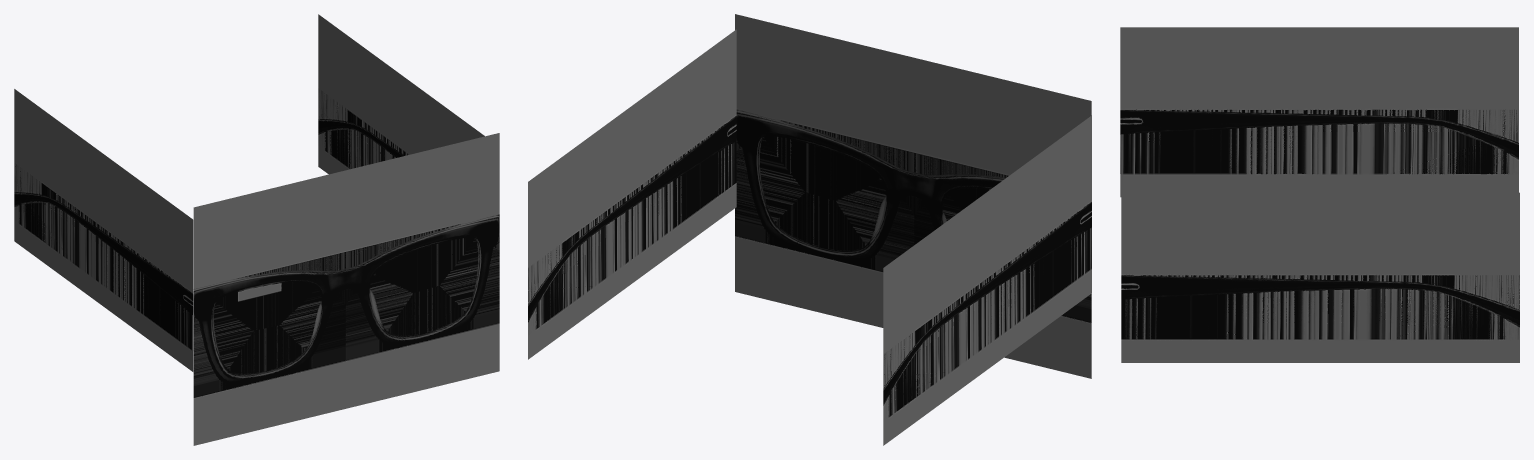
Rendered from broadway-flex-26_black.glb.
3 renders of one model, left to right at view 1: azimuth 30°, elevation 25°; view 2: azimuth 150°, elevation 25°; view 3: azimuth 270°, elevation 25°, orthographic. The views are drawn at different scales.
Parts seen in each view (by area): view 1: Front, Right, Left; view 2: Front, Left, Right; view 3: Left, Right.
Boxes of the visible parts, x1,y1,x2,y2 form: Front: [193, 133, 499, 445]; Right: [14, 89, 193, 371]; Left: [318, 14, 484, 174]; Front: [735, 14, 1091, 378]; Left: [528, 29, 736, 359]; Right: [883, 115, 1091, 445]; Left: [1121, 192, 1519, 362]; Right: [1120, 27, 1518, 197].
Size of the model in its own units: 147 by 109 by 149.
Materials: 4 (4 with a texture image).
